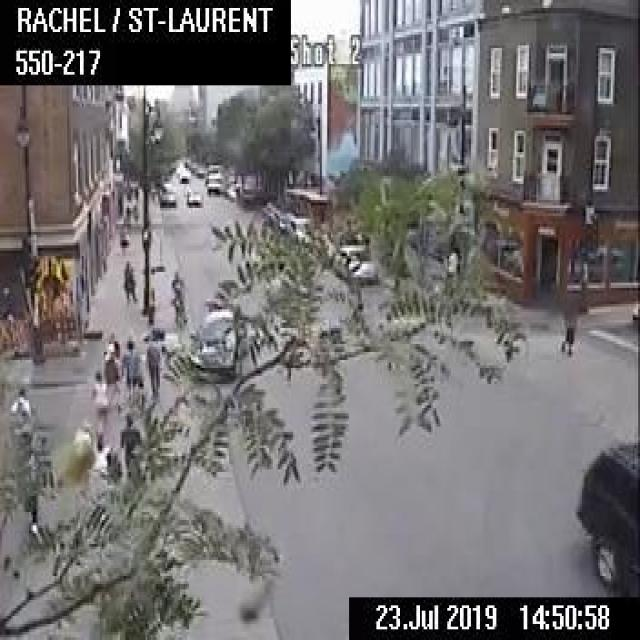cyclist: (169, 264, 187, 328)
pedestrian: (120, 409, 142, 473), (72, 418, 94, 481), (556, 288, 576, 357), (8, 382, 31, 438), (122, 334, 136, 406), (91, 370, 107, 432), (102, 335, 117, 396), (144, 340, 159, 398), (120, 256, 136, 301)
vehicle: (576, 437, 638, 592), (189, 300, 238, 370), (332, 244, 377, 283), (157, 186, 175, 207), (205, 172, 223, 192), (185, 187, 201, 206), (178, 168, 190, 180)
